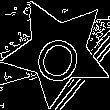O_NE: (27, 20, 88, 84)
